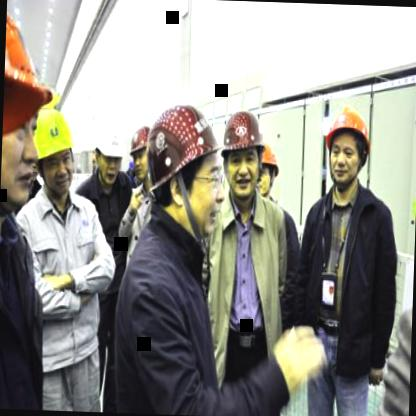helmet: (0, 11, 54, 201), (152, 102, 224, 233), (22, 96, 76, 204), (216, 108, 262, 212), (323, 99, 371, 194), (93, 107, 128, 191), (128, 122, 155, 188), (256, 142, 280, 198)
